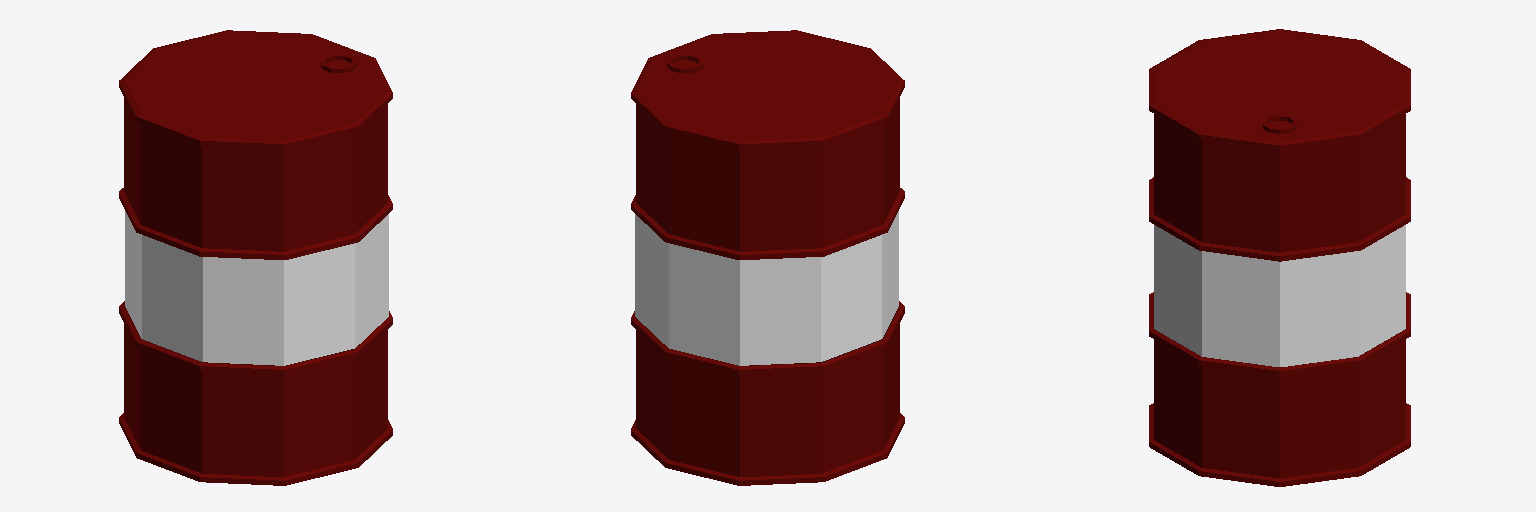
File: barrel_container.obj
3 renders of one model, left to right at view 1: azimuth 30°, elevation 25°; view 2: azimuth 150°, elevation 25°; view 3: azimuth 270°, elevation 25°, orthographic.
Visible parts, largest first — view 1: Cans_01_Mesh.002, Cans_01.001_Mesh.002; view 2: Cans_01_Mesh.002, Cans_01.001_Mesh.002; view 3: Cans_01_Mesh.002, Cans_01.001_Mesh.002.
Part boxes in pixels (x1,y1,x2,y2): Cans_01_Mesh.002: (119,30,392,485); Cans_01.001_Mesh.002: (125,211,388,365); Cans_01_Mesh.002: (631,30,904,485); Cans_01.001_Mesh.002: (635,211,898,365); Cans_01_Mesh.002: (1149,29,1410,486); Cans_01.001_Mesh.002: (1154,225,1405,366).
Size of the model in its own units: 0.52 by 0.7239 by 0.4945.